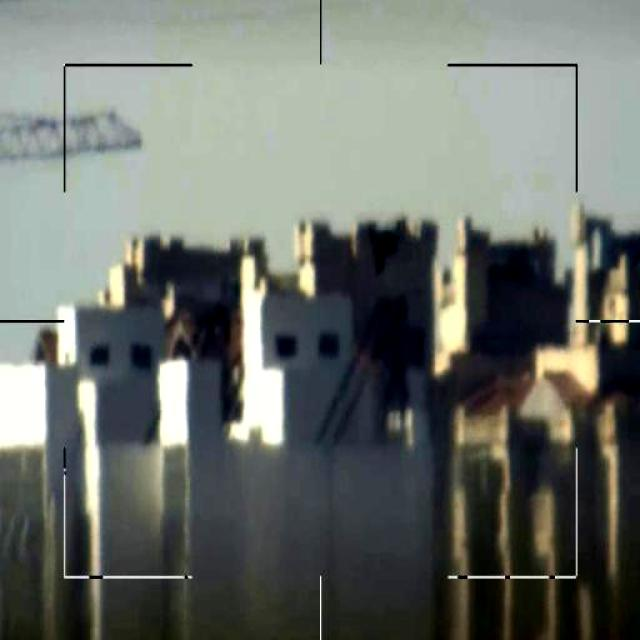bird: (362, 212, 412, 279)
